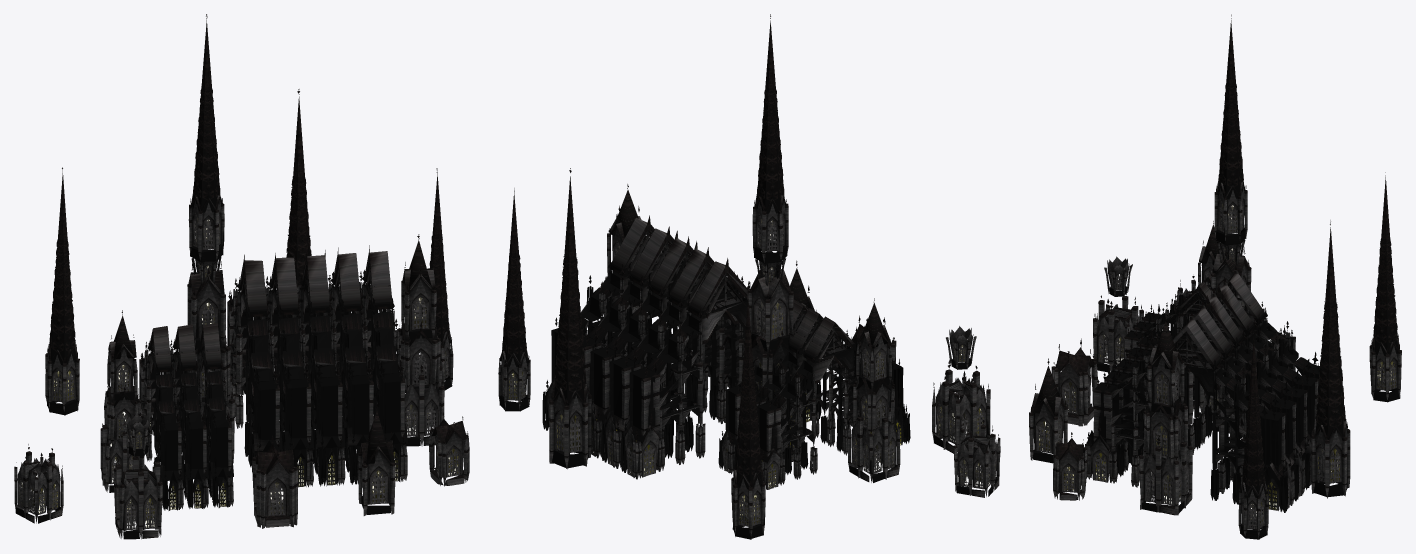
File: gothic-castle.glb
3 renders of one model, left to right at view 1: azimuth 30°, elevation 25°; view 2: azimuth 150°, elevation 25°; view 3: azimuth 270°, elevation 25°, orthographic. The views are drawn at different scales.
Parts seen in each view (by area): view 1: gothic-castle·石头; view 2: gothic-castle·石头; view 3: gothic-castle·石头.
Part boxes in pixels (bbox=[...]): gothic-castle·石头: bbox=[14, 14, 469, 539]; gothic-castle·石头: bbox=[498, 14, 1000, 539]; gothic-castle·石头: bbox=[1029, 14, 1401, 539].
Size of the model in its own units: 91.74 by 83.9 by 69.1.
Materials: 2 (1 with a texture image).
